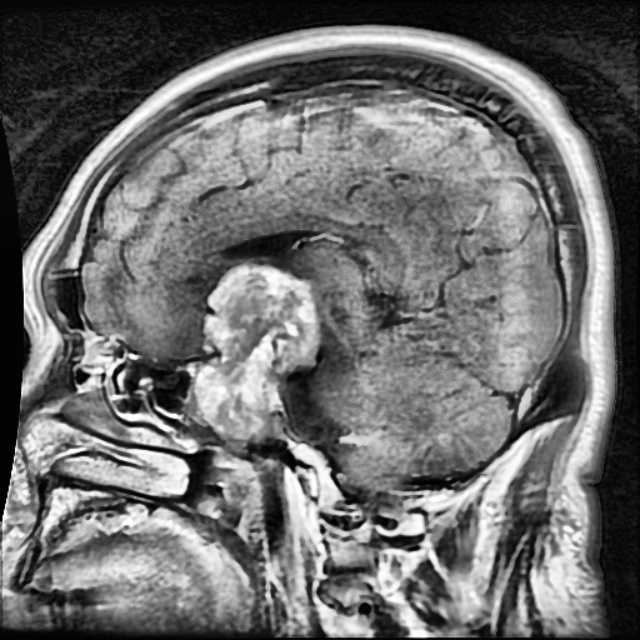Pituitary: (187, 267, 320, 439)
